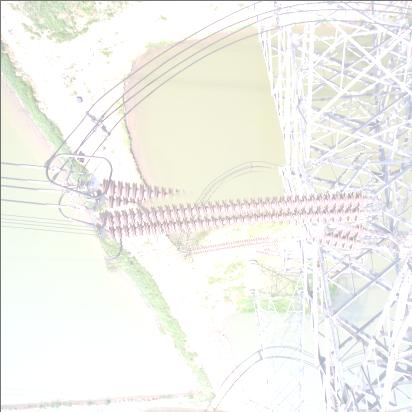insulator: (95, 162, 380, 272), (187, 228, 275, 262)
